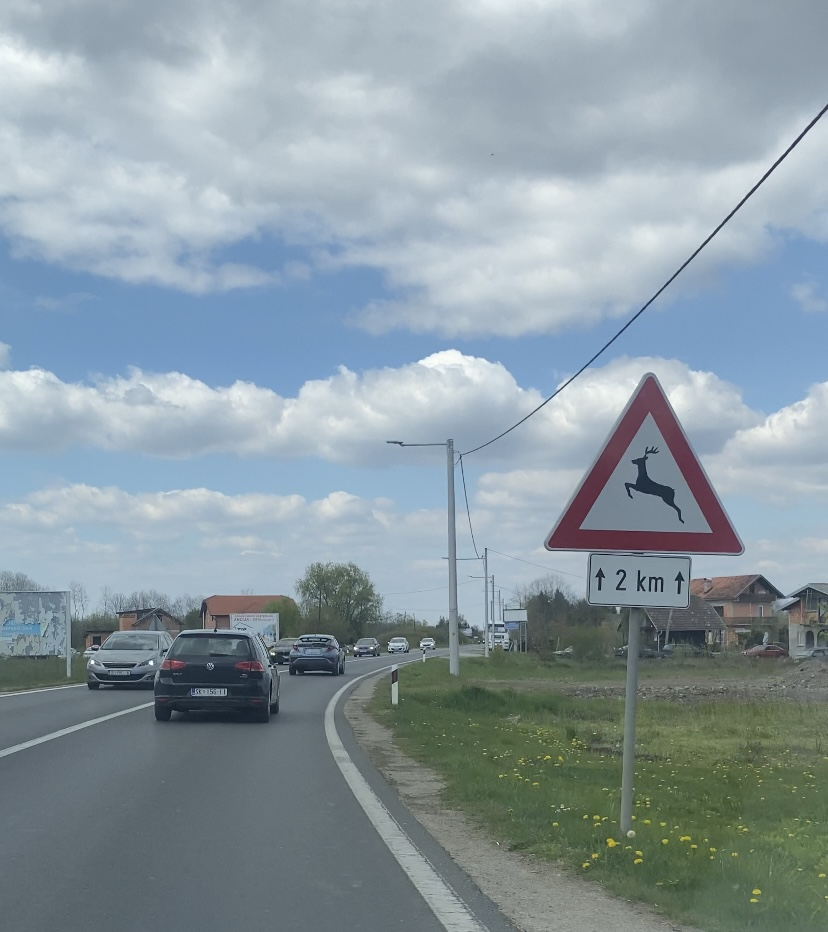Divljač na cesti: (545, 372, 744, 556)
